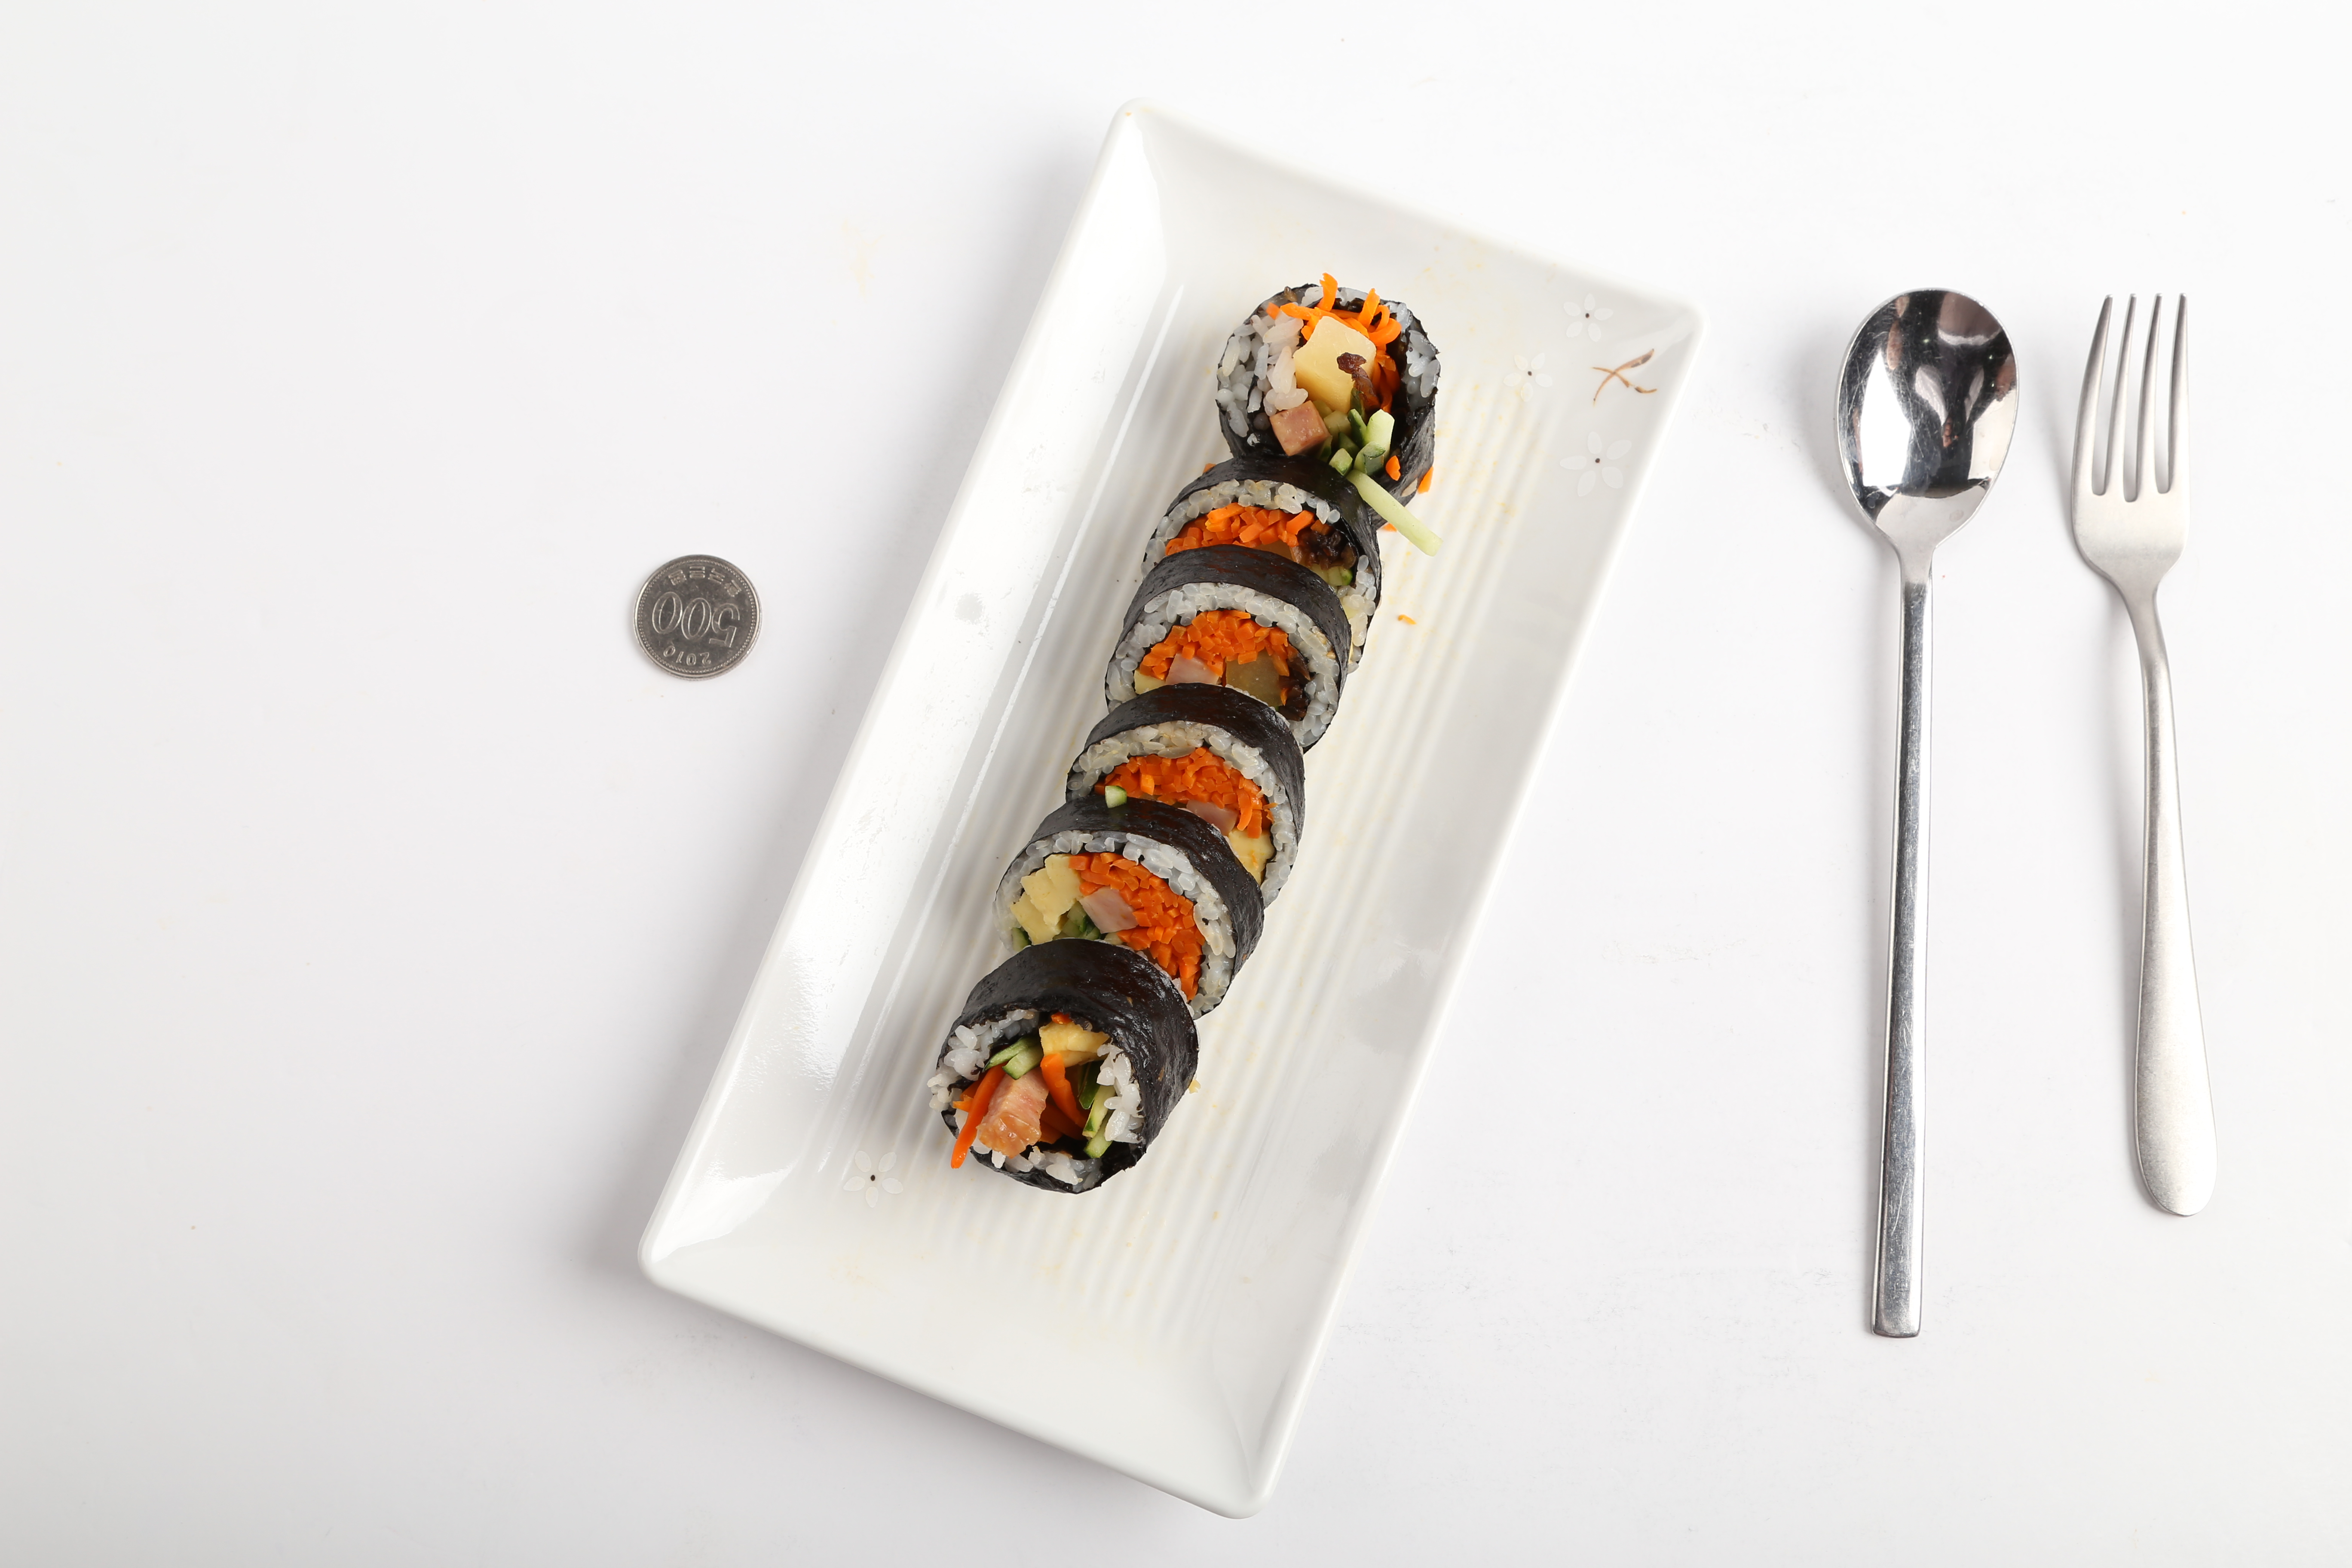dish: (649, 100, 1664, 1517)
ref_coin: (623, 544, 768, 684)
ref_fork: (2061, 287, 2200, 637)
ref_spoon: (1832, 282, 2021, 600)
김밥: (933, 273, 1435, 1193)
